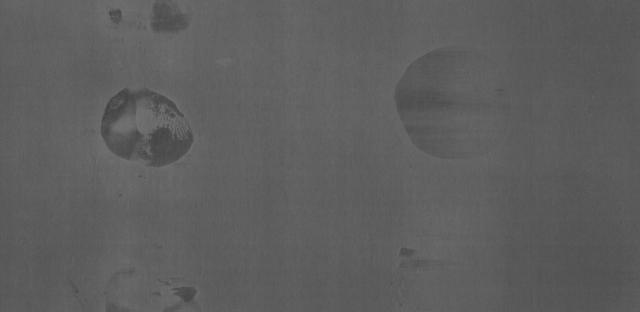oil_spot: (392, 38, 516, 160), (98, 82, 197, 176), (95, 267, 205, 312), (146, 1, 196, 38), (392, 246, 437, 269), (109, 5, 124, 27)
